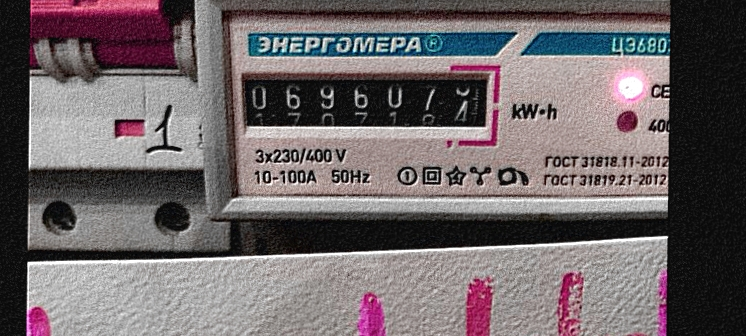0: (386, 80, 404, 110), (251, 83, 268, 111)
4: (452, 96, 470, 125)
6: (353, 81, 370, 110), (285, 82, 302, 110)
7: (420, 82, 439, 113)
9: (318, 82, 336, 111)
screen: (228, 58, 506, 146)
